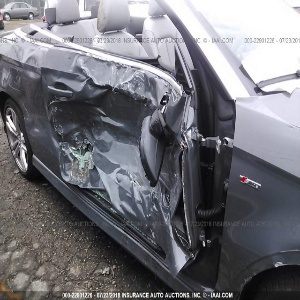door: (30, 60, 188, 241)
